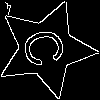C: (21, 23, 75, 70)
